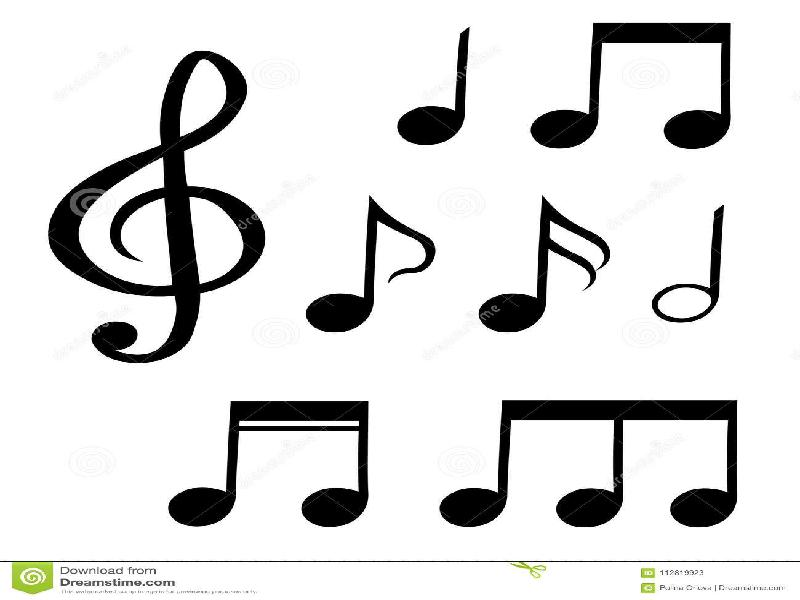B: (653, 202, 725, 322)
C: (305, 195, 438, 341), (541, 384, 640, 530), (650, 390, 747, 532), (439, 396, 531, 531), (530, 20, 606, 147), (664, 20, 733, 151)
CS: (48, 50, 271, 363)
N: (386, 25, 476, 145)
SC: (482, 196, 611, 330), (163, 396, 276, 525), (286, 396, 379, 530)
